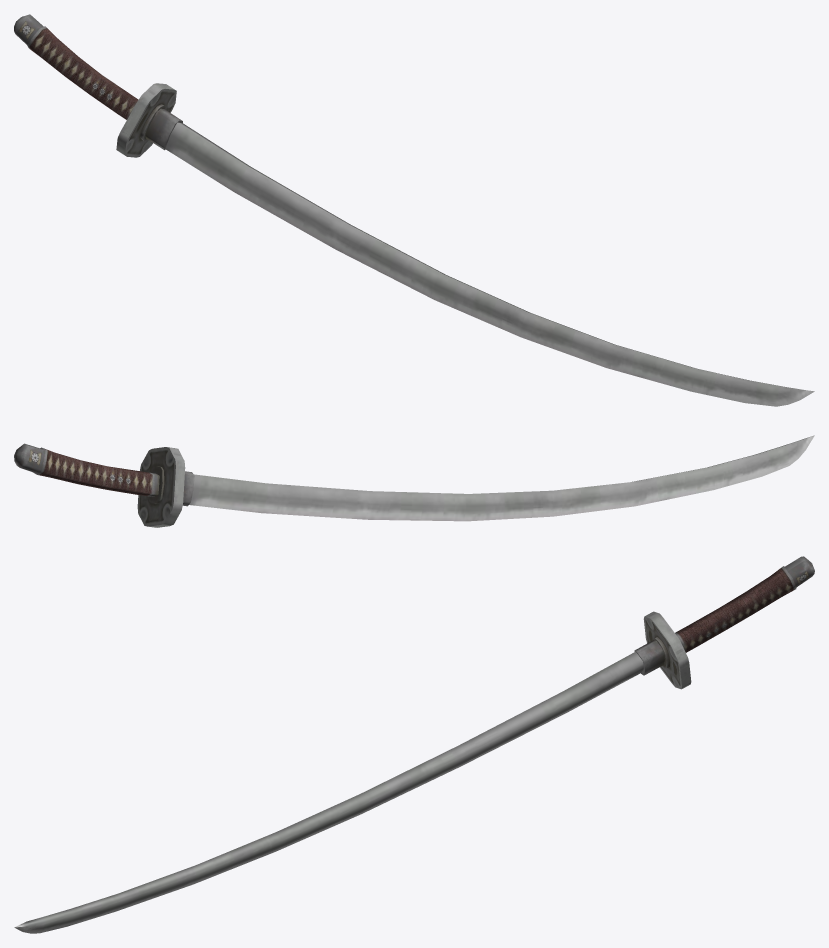
Rendered from weapon-bronzeweapons.glb.
3 views of the same model, one above another, from view 1: azimuth 90°, elevation 25°; view 2: azimuth 150°, elevation 25°; view 3: azimuth 330°, elevation 25° (orthographic).
Size of the model in its own units: 0.834 by 0.3917 by 1.41.
1 material, 1 textured.
